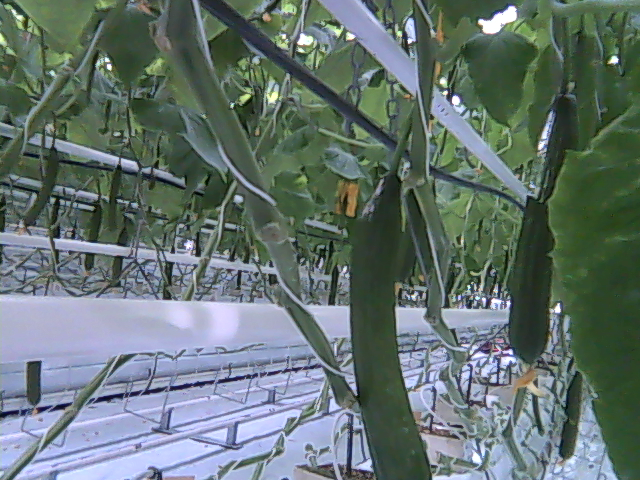concombre: (348, 162, 438, 480), (508, 83, 585, 390)
